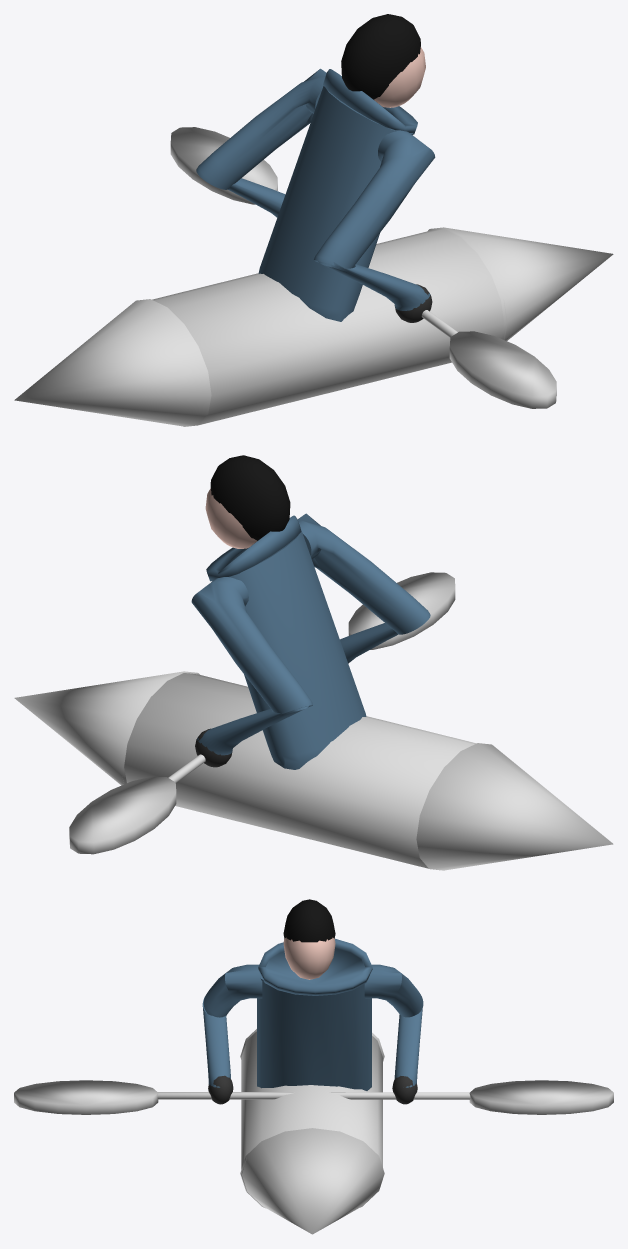
Rendered from kayak.obj.
The picture shows the model from 3 angles, top to bottom: view 1: azimuth 30°, elevation 25°; view 2: azimuth 150°, elevation 25°; view 3: azimuth 270°, elevation 25°; orthographic projection. The views are drawn at different scales.
Parts seen in each view (by area): view 1: cylinder56, cylinder40_copy38, cone57_copy58, cone57, cylinder47_copy41, cylinder61_copy62, cylinder47_copy44, sphere58_copy52, cylinder61, cylinder57_copy50, cylinder41_copy39, sphere58_copy51 (+1 smaller); view 2: cylinder56, cylinder40_copy38, cone57_copy58, cone57, cylinder47_copy44, cylinder47_copy41, cylinder61, sphere58_copy52, cylinder61_copy62, cylinder57_copy50, cylinder41_copy42, sphere58_copy51 (+1 smaller); view 3: cylinder40_copy38, cone57, cylinder56, cylinder61_copy62, cylinder61, cylinder57_copy50, cylinder47_copy41, cylinder47_copy44, sphere58_copy52, cylinder59, sphere58_copy51, cylinder41_copy39 (+3 smaller).
Part boxes in pixels (bbox=[...]): cylinder56: bbox=[152, 229, 507, 426]; cylinder40_copy38: bbox=[258, 86, 412, 321]; cone57_copy58: bbox=[14, 299, 211, 426]; cone57: bbox=[428, 227, 613, 340]; cylinder47_copy41: bbox=[313, 130, 435, 268]; cylinder61_copy62: bbox=[449, 331, 556, 408]; cylinder47_copy44: bbox=[196, 68, 326, 189]; sphere58_copy52: bbox=[341, 14, 420, 99]; cylinder61: bbox=[170, 127, 277, 204]; cylinder57_copy50: bbox=[323, 69, 417, 134]; cylinder41_copy39: bbox=[318, 261, 430, 310]; sphere58_copy51: bbox=[374, 47, 425, 107]; cylinder56: bbox=[123, 673, 476, 870]; cylinder40_copy38: bbox=[229, 530, 366, 769]; cone57_copy58: bbox=[416, 743, 613, 870]; cone57: bbox=[14, 671, 199, 785]; cylinder47_copy44: bbox=[191, 577, 312, 714]; cylinder47_copy41: bbox=[297, 513, 430, 634]; cylinder61: bbox=[69, 776, 176, 854]; sphere58_copy52: bbox=[210, 455, 290, 540]; cylinder61_copy62: bbox=[348, 572, 455, 649]; cylinder57_copy50: bbox=[206, 515, 301, 581]; cylinder41_copy42: bbox=[197, 706, 308, 755]; sphere58_copy51: bbox=[205, 488, 256, 548]; cylinder40_copy38: bbox=[257, 976, 371, 1090]; cone57: bbox=[240, 1128, 384, 1234]; cylinder56: bbox=[241, 1031, 382, 1208]; cylinder61_copy62: bbox=[14, 1080, 158, 1114]; cylinder61: bbox=[469, 1080, 613, 1114]; cylinder57_copy50: bbox=[258, 938, 372, 995]; cylinder47_copy41: bbox=[203, 964, 262, 1017]; cylinder47_copy44: bbox=[364, 964, 423, 1017]; sphere58_copy52: bbox=[283, 899, 335, 942]; cylinder59: bbox=[157, 1092, 470, 1099]; sphere58_copy51: bbox=[283, 937, 335, 979]; cylinder41_copy39: bbox=[202, 997, 230, 1087].
Size of the model in its own units: 3.79 by 2.12 by 4.02.
